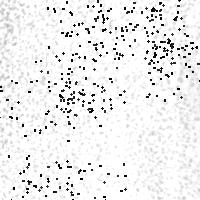pitted_surface: (2, 5, 195, 195), (65, 52, 123, 111), (144, 40, 200, 99), (47, 0, 103, 59), (48, 81, 103, 140), (61, 0, 121, 53), (121, 0, 178, 54), (35, 56, 93, 108), (150, 11, 200, 71), (127, 0, 186, 47), (8, 155, 66, 200), (0, 80, 47, 135), (66, 163, 125, 200)
